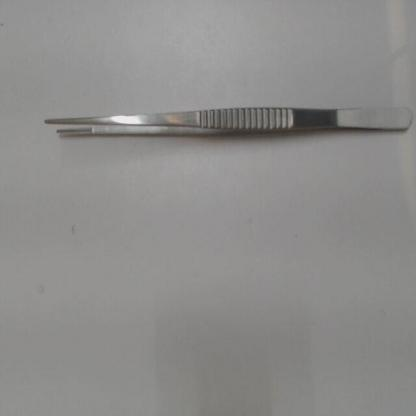DeBakey Dissector: (38, 94, 414, 154)
